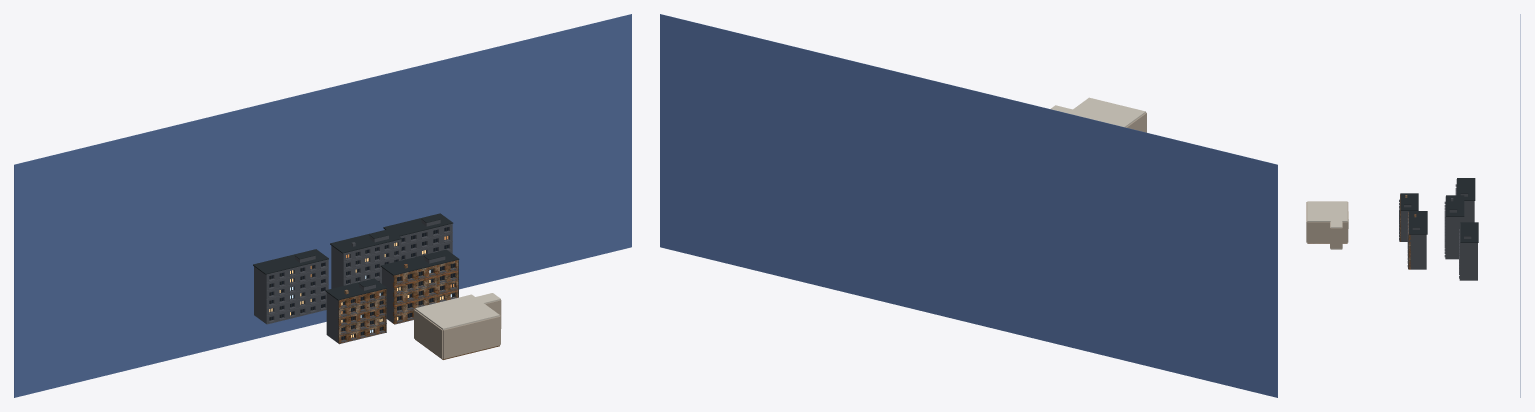
Rendered from story-home.glb.
3 views of the same model, side by side, from view 1: azimuth 30°, elevation 25°; view 2: azimuth 150°, elevation 25°; view 3: azimuth 270°, elevation 25° (orthographic). The views are drawn at different scales.
Parts seen in each view (by area): view 1: City | backdrop beyond both rows, Static batch | City | weathered concrete, Static batch | City | weathered brick and plaster, Static batch | City | zinc coping and dark trims, Static batch | Warm greige wall paint, Static batch | Ceiling white, Static batch | City | unlit window and deep reveal, Static batch | City | painted window frame; view 2: City | backdrop beyond both rows, Static batch | Ceiling white; view 3: Static batch | City | weathered concrete, Static batch | City | zinc coping and dark trims, Static batch | Warm greige wall paint, Static batch | Ceiling white, City | backdrop beyond both rows.
Part boxes in pixels (left/top/right/bottom): City | backdrop beyond both rows: left=14, top=14, right=631, bottom=397; Static batch | City | weathered concrete: left=254, top=219, right=458, bottom=344; Static batch | City | weathered brick and plaster: left=338, top=260, right=458, bottom=343; Static batch | City | zinc coping and dark trims: left=253, top=213, right=459, bottom=332; Static batch | Warm greige wall paint: left=414, top=300, right=501, bottom=358; Static batch | Ceiling white: left=415, top=293, right=500, bottom=329; Static batch | City | unlit window and deep reveal: left=269, top=227, right=454, bottom=340; Static batch | City | painted window frame: left=270, top=227, right=454, bottom=339; City | backdrop beyond both rows: left=660, top=14, right=1277, bottom=397; Static batch | Ceiling white: left=1050, top=97, right=1145, bottom=127; Static batch | City | weathered concrete: left=1399, top=179, right=1477, bottom=280; Static batch | City | zinc coping and dark trims: left=1399, top=178, right=1478, bottom=268; Static batch | Warm greige wall paint: left=1306, top=202, right=1348, bottom=248; Static batch | Ceiling white: left=1307, top=201, right=1347, bottom=249; City | backdrop beyond both rows: left=1520, top=14, right=1520, bottom=397.
Bounding box in the file's own units: 61 × 22 × 25.53.
32 materials, 6 textured.
